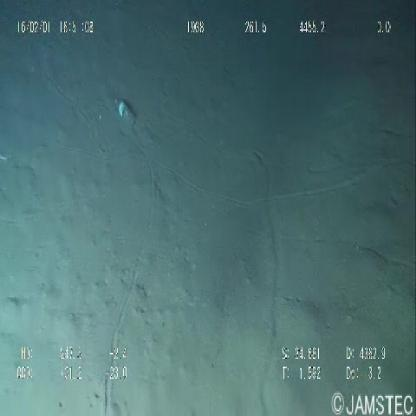Rác: (109, 86, 144, 136)
